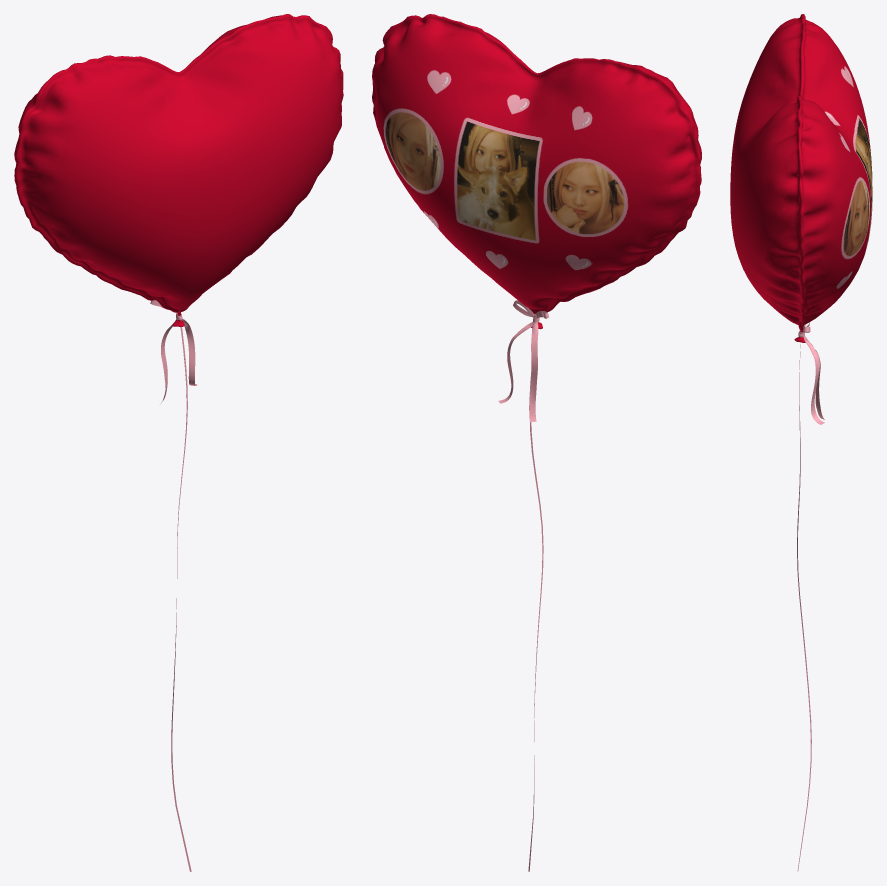
The model's file is red_baloon3.glb.
The picture shows the model from 3 angles, left to right: view 1: azimuth 30°, elevation 25°; view 2: azimuth 150°, elevation 25°; view 3: azimuth 270°, elevation 25°; orthographic projection. The views are drawn at different scales.
Visible parts, largest first — view 1: Love_Baloon.002; view 2: Love_Baloon.002; view 3: Love_Baloon.002.
Part boxes in pixels (x1=…): Love_Baloon.002: x1=14, y1=14, x2=343, y2=871; Love_Baloon.002: x1=372, y1=14, x2=701, y2=871; Love_Baloon.002: x1=730, y1=14, x2=872, y2=871.
Size of the model in its own units: 1.51 by 3.65 by 0.5883.
Materials: 1 (1 with a texture image).
